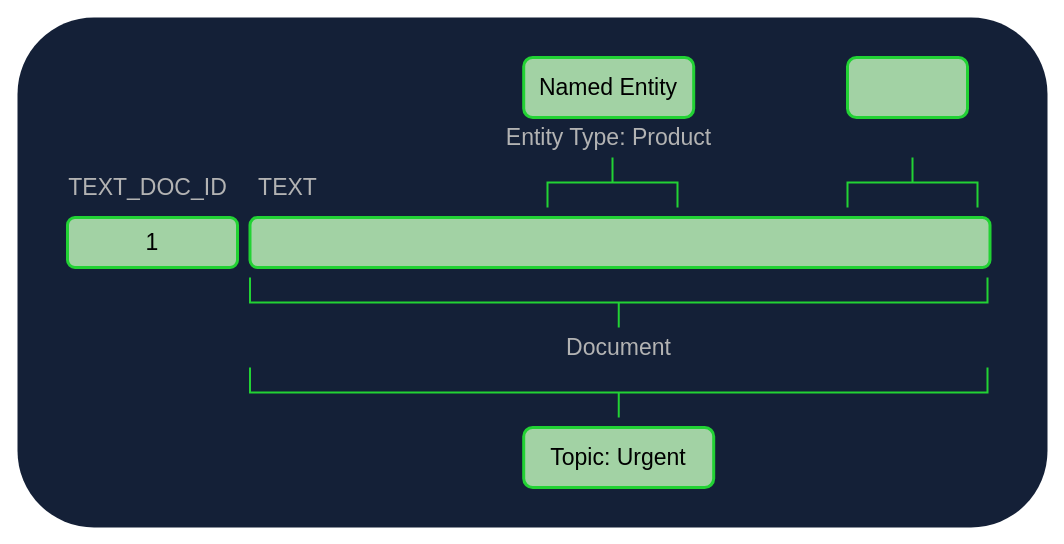
This 1064x544 diagram has some shape labels left out. Here are the shapes that lost their labels. From the top down, the centre of each, then its label:
point 907,87: Keyword
point 619,242: I'm having an issue with the GoPro Hero. It's affecting my productivity.
